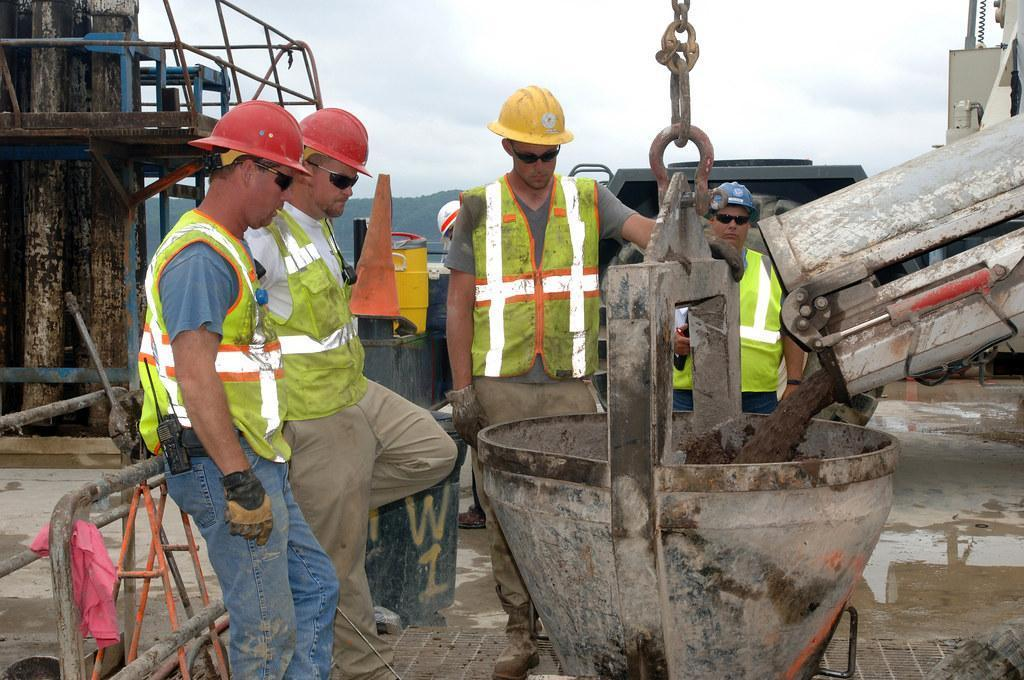vest: (457, 167, 609, 384), (240, 196, 372, 416), (149, 211, 272, 437), (681, 239, 789, 393)
